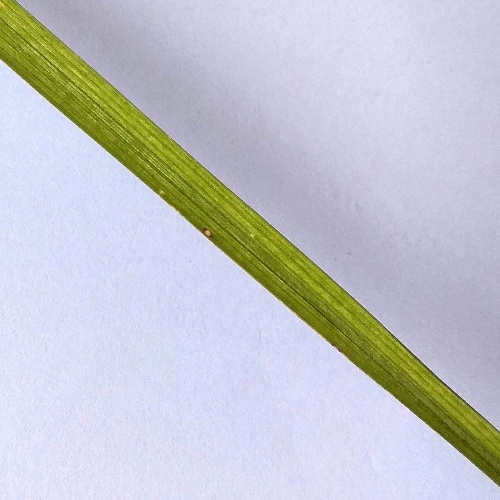Busuk Leher: (196, 214, 218, 244)
